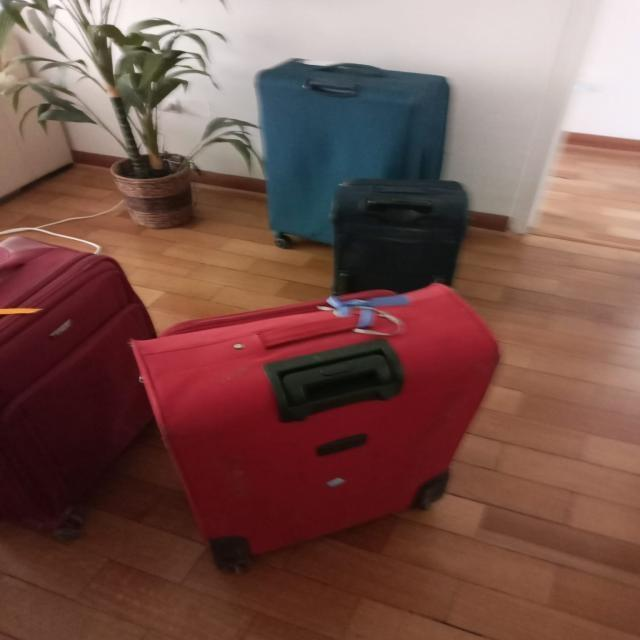Suitcase: (130, 282, 503, 573), (0, 230, 161, 540), (260, 55, 454, 248), (330, 182, 462, 302)
